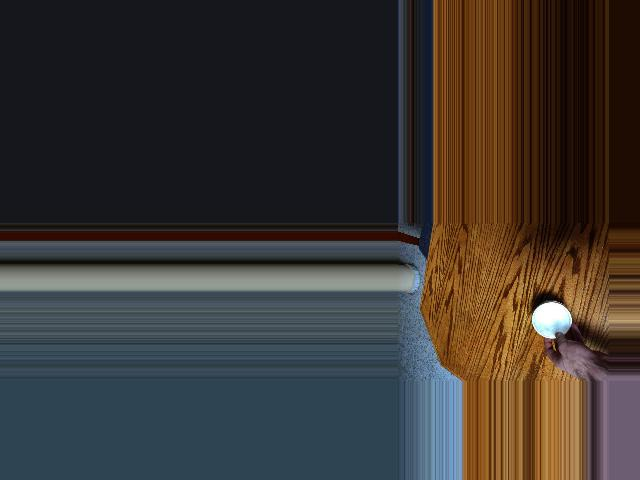cotage: (529, 302, 574, 346)
